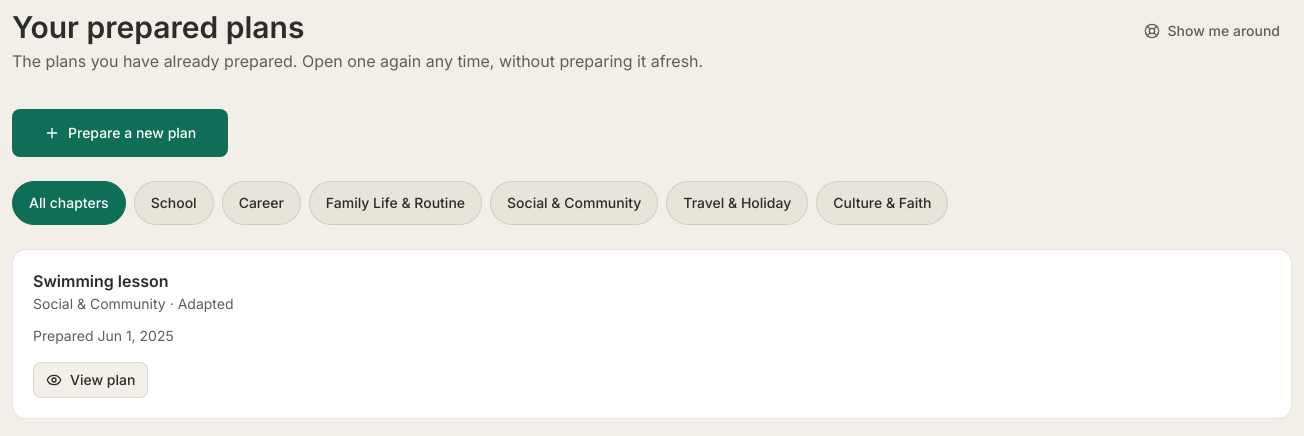
Test: PlansList › filters by chapter: selecting a chapter refetches the list narrowed via the api
The width and height of the screenshot is (1304, 436).
expect the heading "Swimming lesson" is shown: met, box top-left (33, 271), bottom-right (169, 291)
// Select the School filter chip.
Click the button "School" at (174, 203), box top-left (134, 181), bottom-right (214, 225)
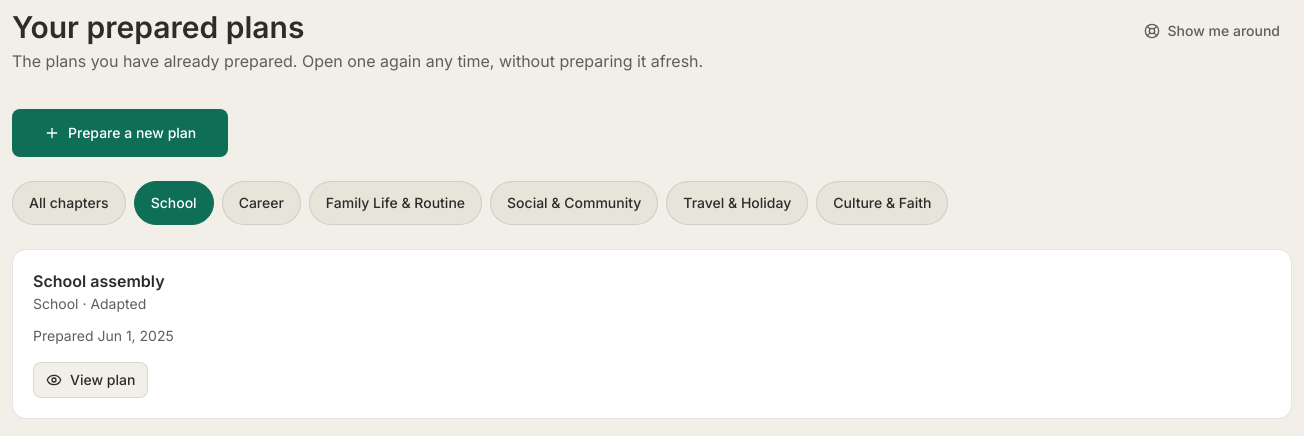
expect the heading "School assembly" is shown: met, box top-left (33, 270), bottom-right (165, 292)
